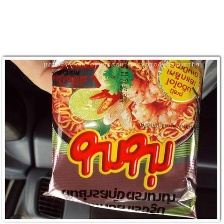snack: (35, 60, 211, 219)
